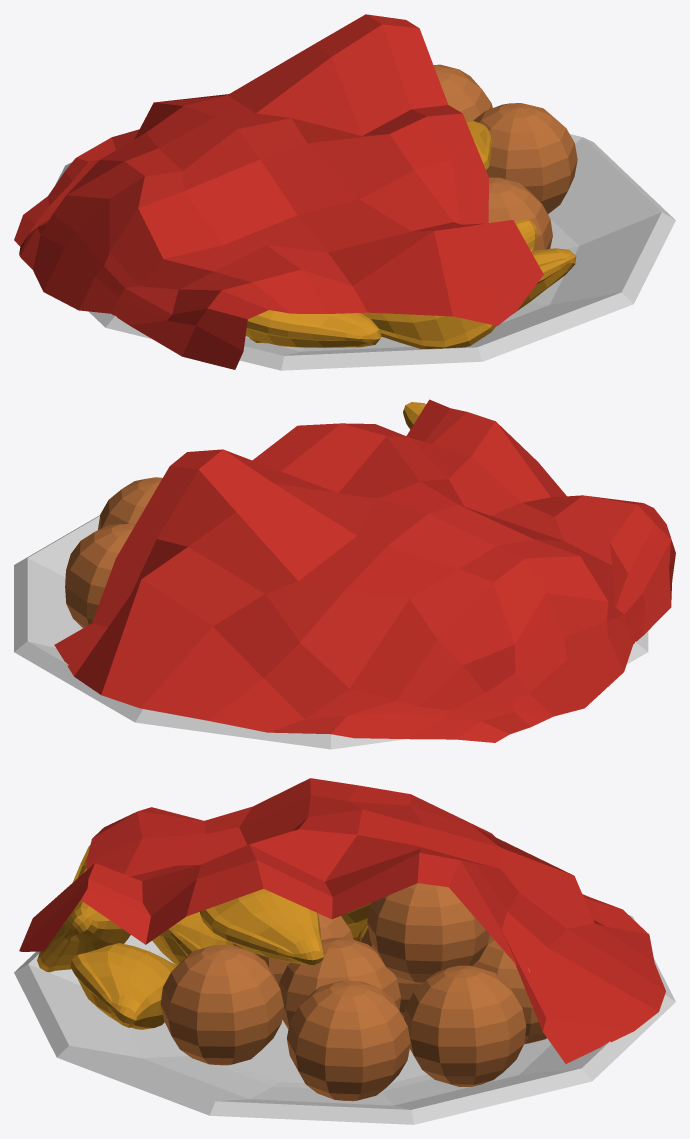
Rendered from comida_abuela_ok.fbx.
3 views of the same model, one above another, from view 1: azimuth 30°, elevation 25°; view 2: azimuth 150°, elevation 25°; view 3: azimuth 270°, elevation 25° (orthographic).
Parts seen in each view (by area): view 1: Cube.002; view 2: Cube.002; view 3: Cube.002.
Part boxes in pixels (left/top/right/bottom): Cube.002: left=14, top=14, right=675, bottom=370; Cube.002: left=14, top=399, right=675, bottom=749; Cube.002: left=14, top=778, right=675, bottom=1124.
Size of the model in its own units: 62.05 by 22.38 by 62.91.
